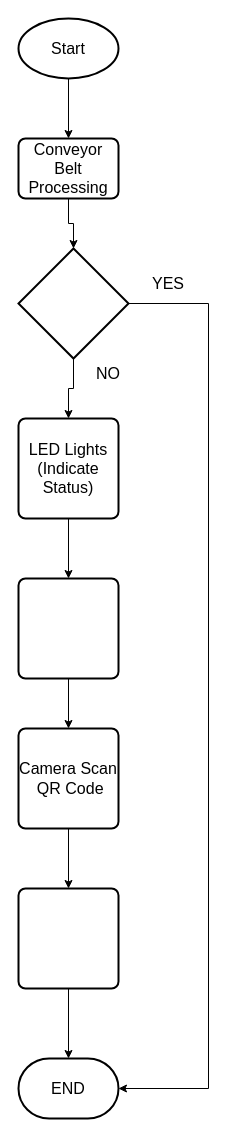
Image size: 234x1136. Some labels were removed from this diagram. The shapes that lost their labels are listed below. From the top down, each one's box as (x1, y1, x2, y2) in pixels, then its label:
(17, 247, 129, 359): QR Code Genrated ?
(17, 577, 119, 679): Display QR Code
(17, 887, 119, 989): Upload QR Data To AWS Cloud
